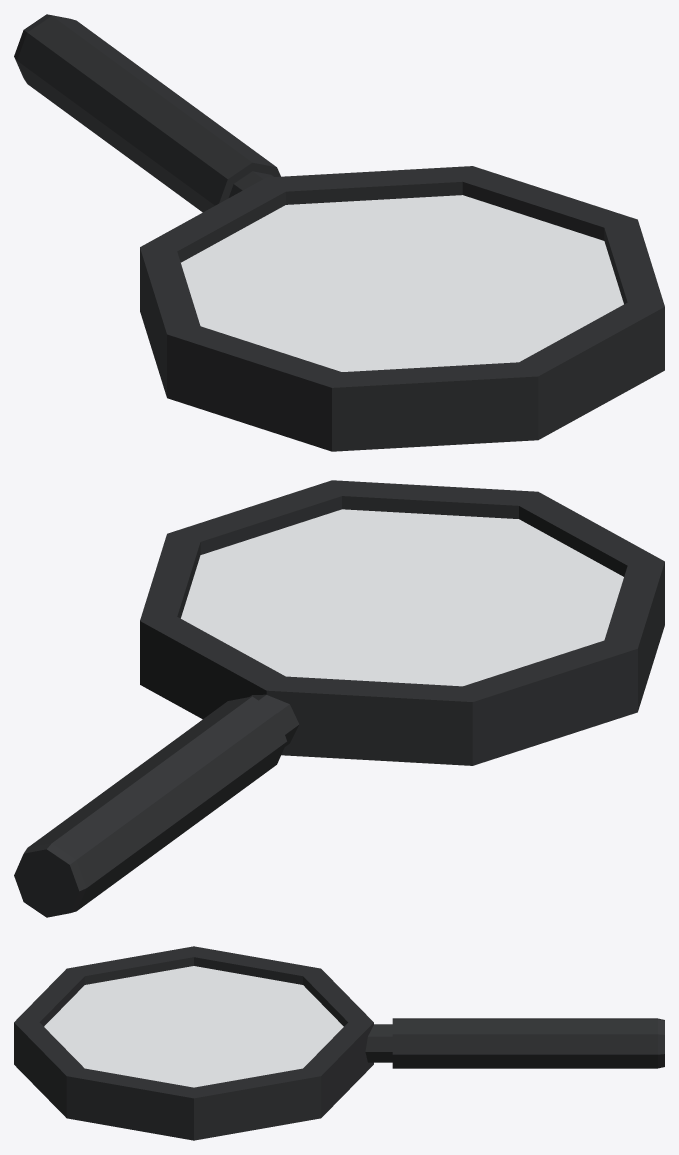
File: misc_magnifying_glass.obj
The picture shows the model from 3 angles, top to bottom: view 1: azimuth 30°, elevation 25°; view 2: azimuth 150°, elevation 25°; view 3: azimuth 270°, elevation 25°; orthographic projection. The views are drawn at different scales.
Visible parts, largest first — view 1: Cylinder.627, Cylinder.627_1; view 2: Cylinder.627, Cylinder.627_1; view 3: Cylinder.627, Cylinder.627_1.
Boxes of the visible parts, x1=… form: Cylinder.627: x1=14, y1=14, x2=664, y2=451; Cylinder.627_1: x1=181, y1=195, x2=623, y2=371; Cylinder.627: x1=14, y1=480, x2=664, y2=917; Cylinder.627_1: x1=181, y1=509, x2=623, y2=686; Cylinder.627: x1=14, y1=946, x2=664, y2=1140; Cylinder.627_1: x1=44, y1=966, x2=343, y2=1087.
Size of the model in its own units: 0.2069 by 0.0306 by 0.3743.
Materials: 2 (2 with a texture image).
